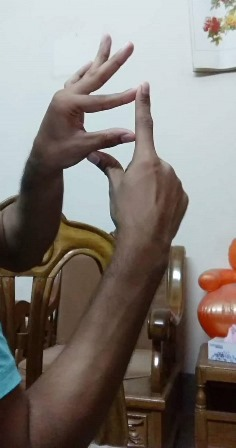k: (38, 31, 189, 263)
